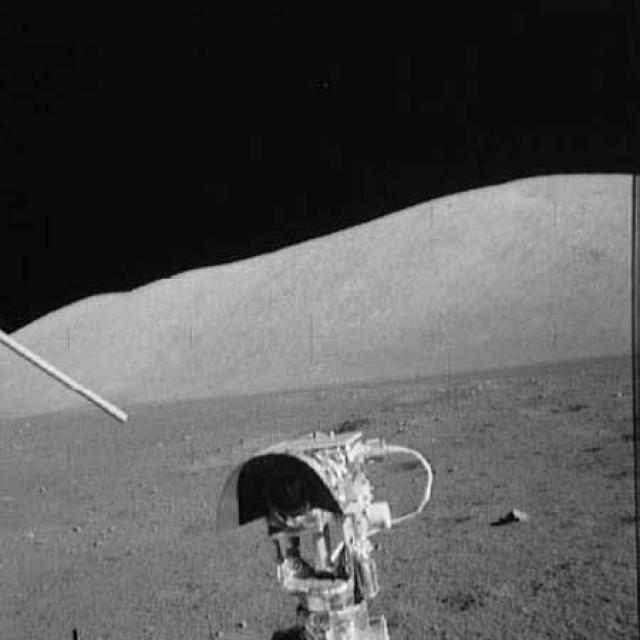artifact: (211, 431, 439, 639), (0, 327, 138, 442)
crater: (185, 416, 374, 468)
